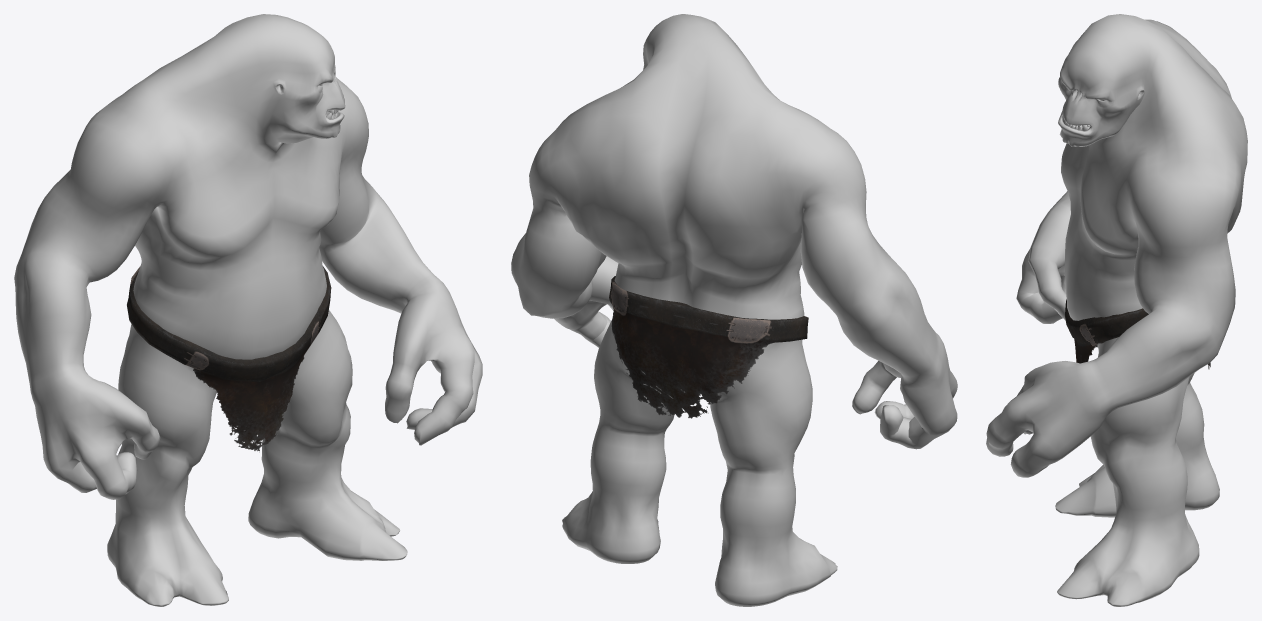
File: TrollStatic_low.fbx
3 views of the same model, side by side, from view 1: azimuth 30°, elevation 25°; view 2: azimuth 150°, elevation 25°; view 3: azimuth 270°, elevation 25° (orthographic). The views are drawn at different scales.
Visible parts, largest first — view 1: pasted__GEO_Troll; view 2: pasted__GEO_Troll; view 3: pasted__GEO_Troll.
Boxes of the visible parts, x1,y1,x2,y2 form: pasted__GEO_Troll: (14, 14, 482, 606); pasted__GEO_Troll: (511, 14, 957, 606); pasted__GEO_Troll: (986, 14, 1247, 606).
Size of the model in its own units: 444 by 552 by 248.
